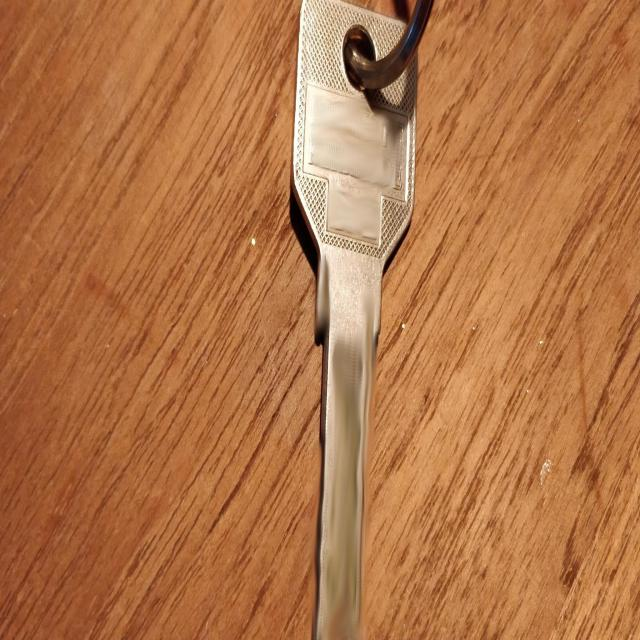Frontdoor keys: (287, 2, 437, 637)
